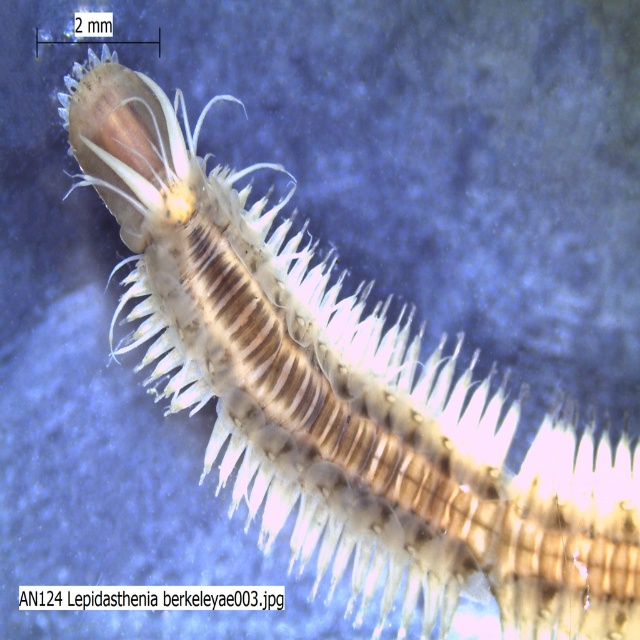Centipede: (58, 69, 640, 639)
